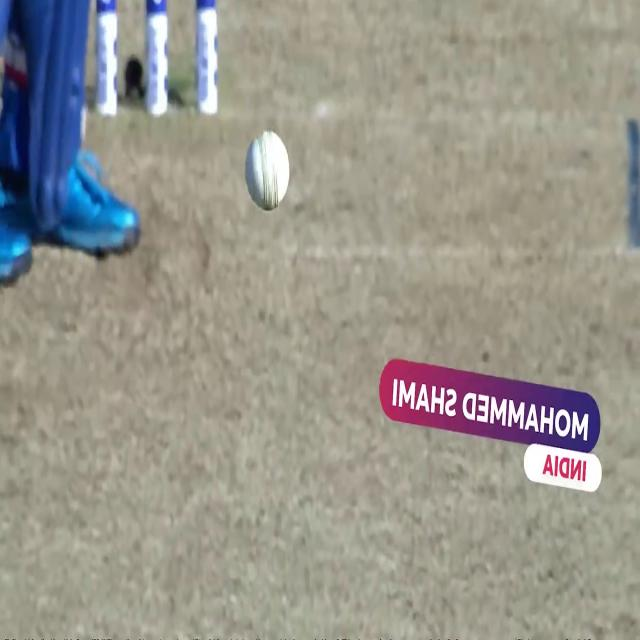ball: (242, 125, 292, 215)
